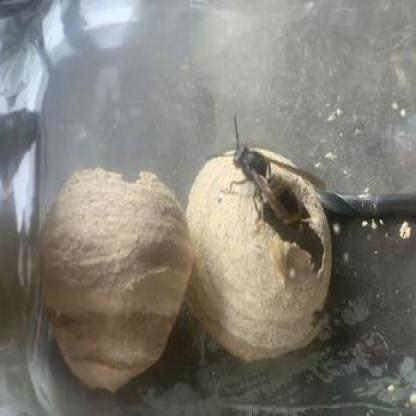Asian Hornet: (228, 109, 314, 235)
